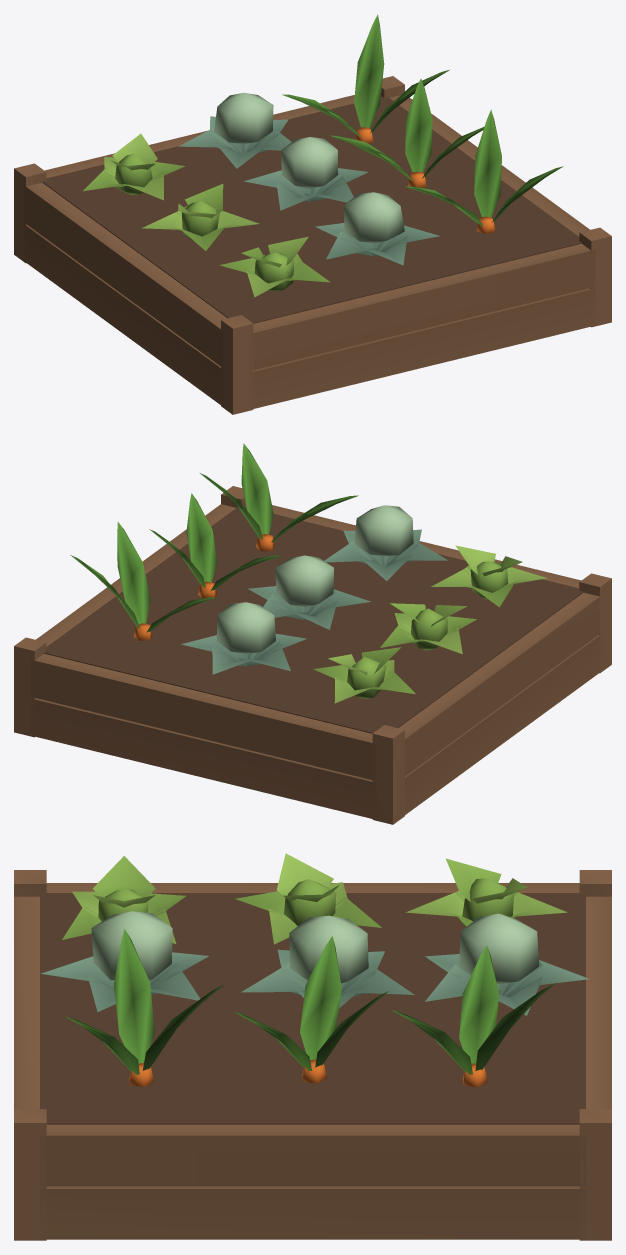
The model's file is vegPatch.far.glb.
The picture shows the model from 3 angles, top to bottom: view 1: azimuth 30°, elevation 25°; view 2: azimuth 150°, elevation 25°; view 3: azimuth 270°, elevation 25°; orthographic projection. The views are drawn at different scales.
Parts seen in each view (by area): view 1: vegPatch; view 2: vegPatch; view 3: vegPatch.
Part boxes in pixels (bbox=[...]): vegPatch: bbox=[14, 14, 611, 414]; vegPatch: bbox=[14, 443, 611, 824]; vegPatch: bbox=[14, 853, 611, 1240].
Bounding box in the file's own units: 0.92 × 0.398 × 0.92.
